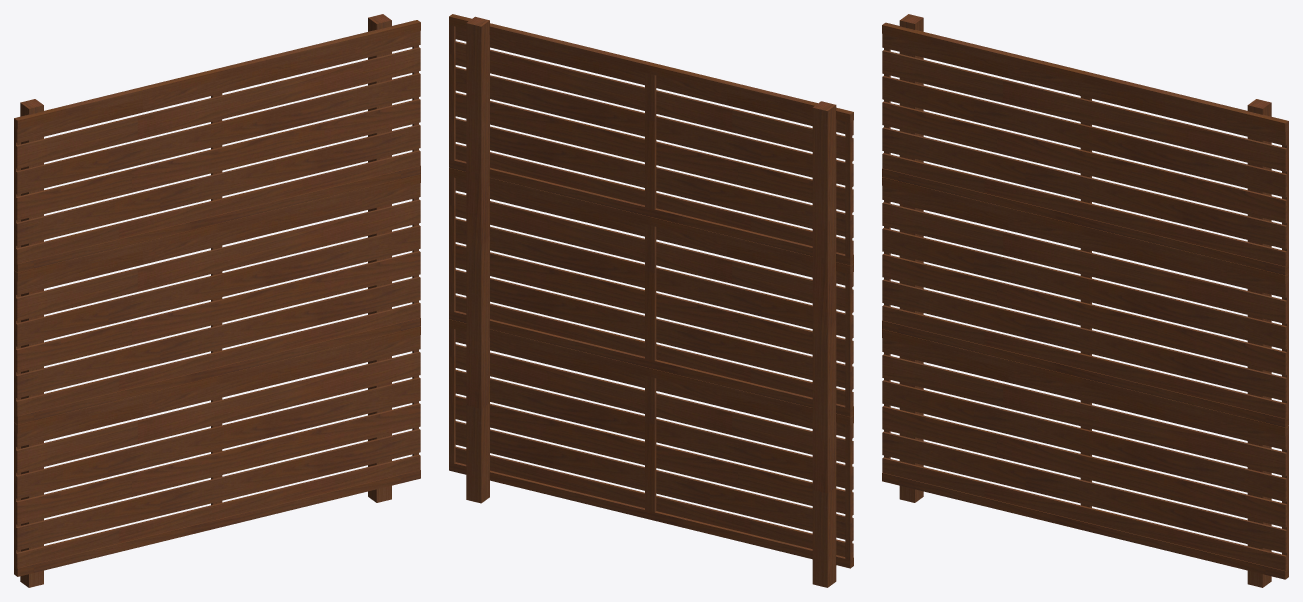
Rendered from eafyokoita-tadan_h24_walnut.fbx.
3 renders of one model, left to right at view 1: azimuth 30°, elevation 25°; view 2: azimuth 150°, elevation 25°; view 3: azimuth 330°, elevation 25°, orthographic.
Parts seen in each view (by area): view 1: eafyokoita-tadan_h24_walnut; view 2: eafyokoita-tadan_h24_walnut; view 3: eafyokoita-tadan_h24_walnut.
Part boxes in pixels (x1=…): eafyokoita-tadan_h24_walnut: x1=14, y1=14, x2=420, y2=587; eafyokoita-tadan_h24_walnut: x1=449, y1=14, x2=853, y2=587; eafyokoita-tadan_h24_walnut: x1=882, y1=14, x2=1288, y2=587.
Size of the model in its own units: 200 by 227 by 10.25.
Materials: 1 (1 with a texture image).
